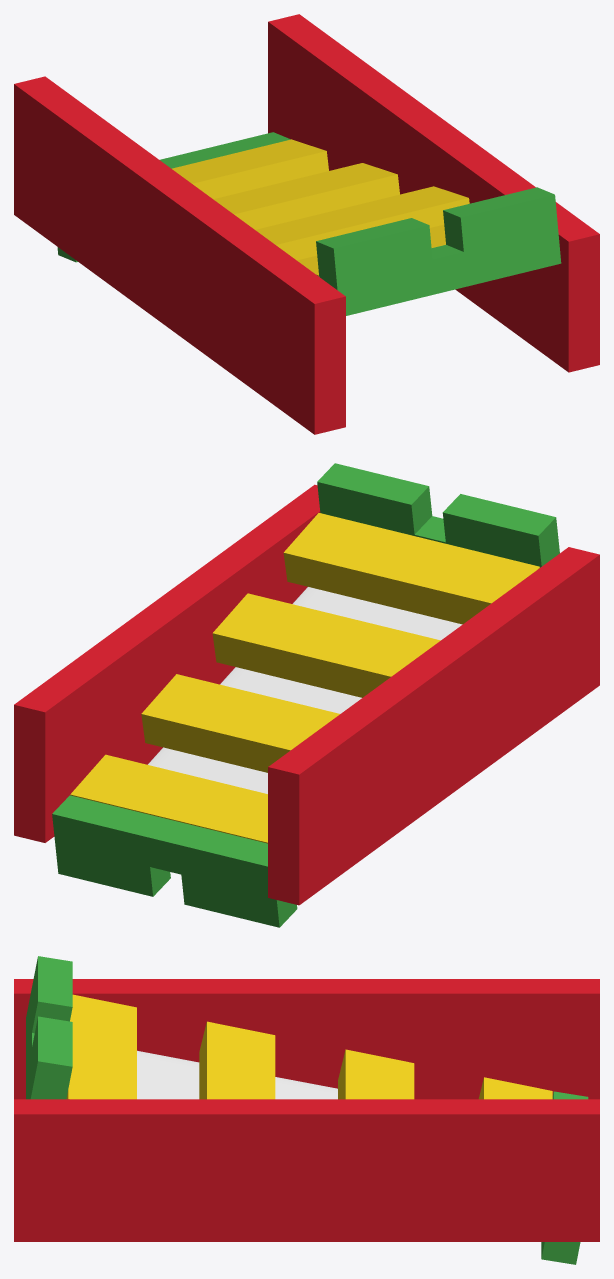
Rendered from tinker.obj.
3 renders of one model, top to bottom at view 1: azimuth 30°, elevation 25°; view 2: azimuth 150°, elevation 25°; view 3: azimuth 270°, elevation 25°, orthographic. The views are drawn at different scales.
Parts seen in each view (by area): view 1: group_0_15277357, group_0_4634441, group_0_16768282; view 2: group_0_15277357, group_0_16768282, group_0_4634441, group_0_16448250; view 3: group_0_15277357, group_0_16768282, group_0_4634441, group_0_16448250.
Boxes of the visible parts, x1=… form: group_0_15277357: x1=14, y1=14, x2=599, y2=434; group_0_4634441: x1=57, y1=132, x2=561, y2=315; group_0_16768282: x1=172, y1=139, x2=469, y2=276; group_0_15277357: x1=14, y1=484, x2=599, y2=905; group_0_16768282: x1=70, y1=513, x2=539, y2=843; group_0_4634441: x1=52, y1=463, x2=559, y2=927; group_0_16448250: x1=148, y1=587, x2=462, y2=793; group_0_15277357: x1=14, y1=979, x2=599, y2=1241; group_0_16768282: x1=66, y1=994, x2=552, y2=1099; group_0_4634441: x1=26, y1=956, x2=588, y2=1264; group_0_16448250: x1=137, y1=1050, x2=337, y2=1099.
Bounding box in the file's own units: 110 × 76.6 × 200.
